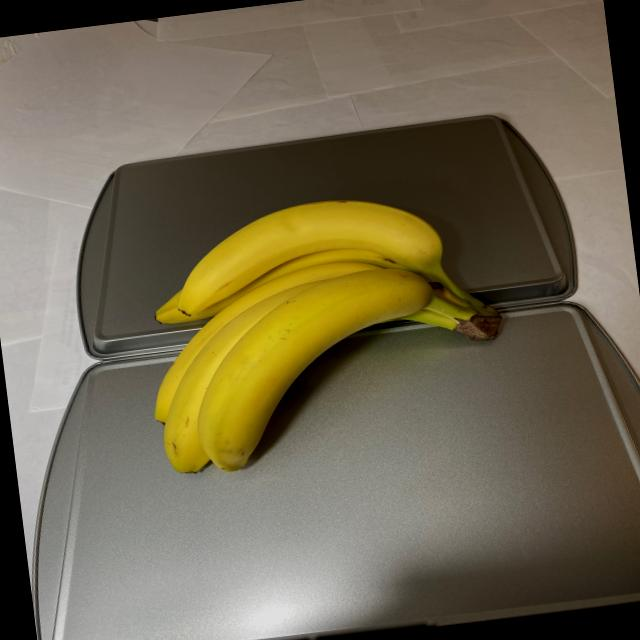banana: (132, 180, 522, 482)
